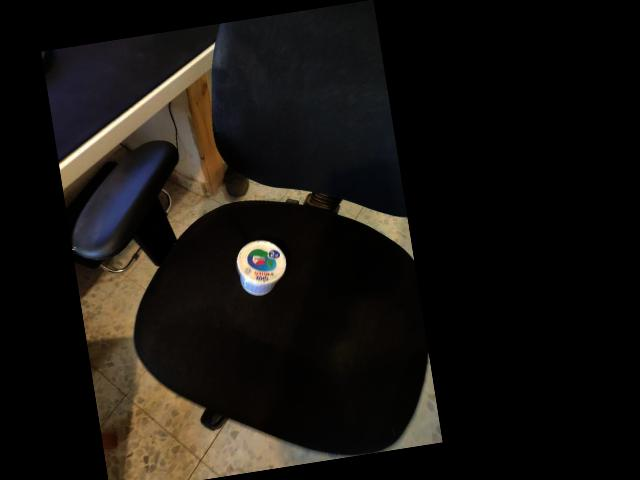cotage: (230, 231, 301, 310)
